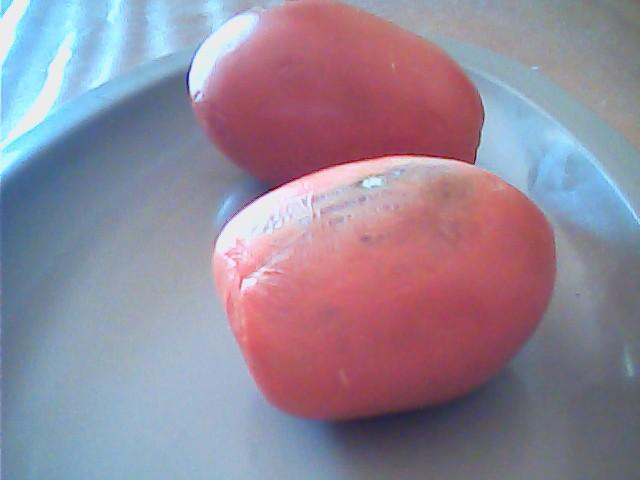defectuoso: (209, 158, 559, 427), (187, 5, 485, 189)
